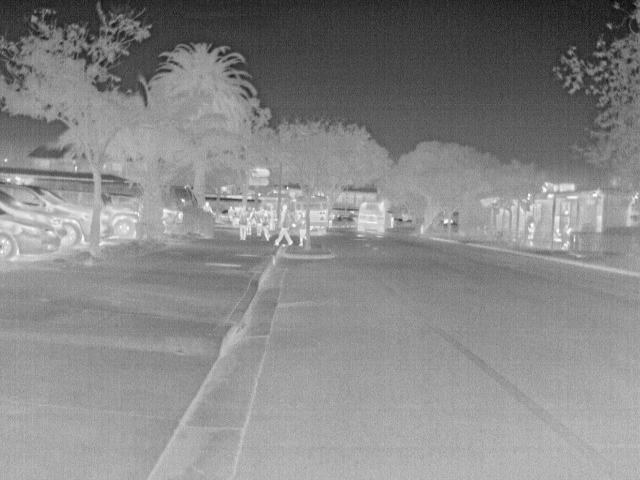car: (1, 180, 94, 250), (2, 208, 62, 261), (103, 204, 143, 241), (164, 207, 186, 234), (218, 207, 232, 221)
person: (271, 204, 292, 250), (294, 210, 311, 247), (238, 209, 250, 241), (526, 218, 539, 246), (200, 200, 216, 214)
